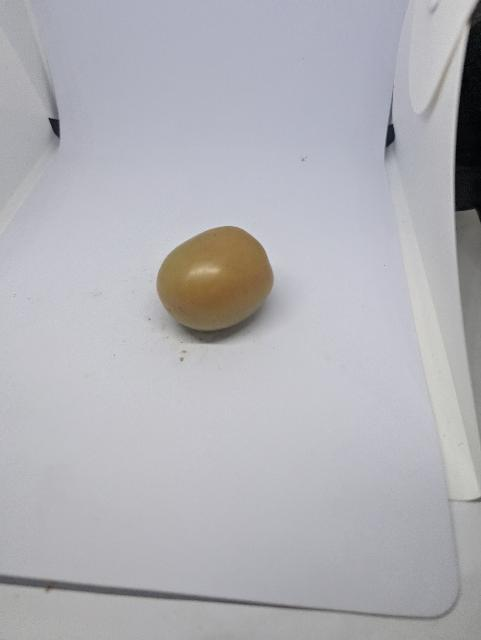breaker: (152, 223, 281, 339)
